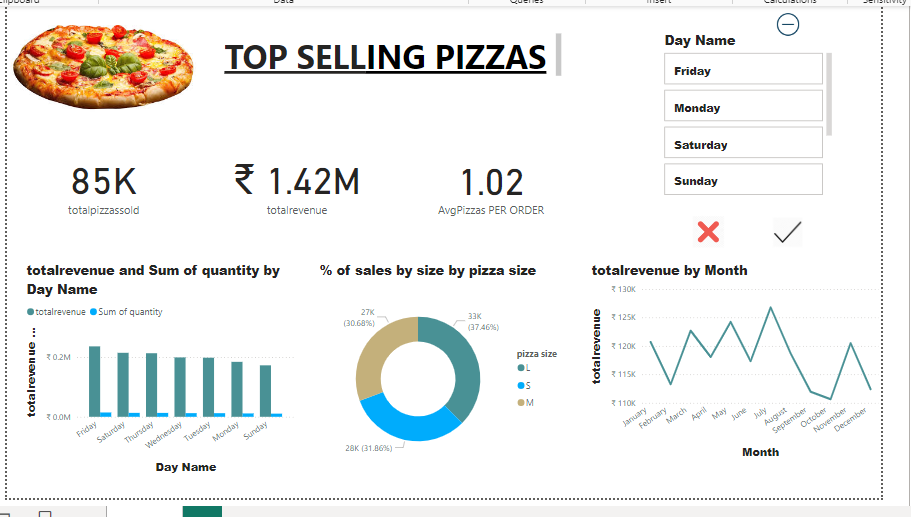

Layout of this report page (visuals, bound fields, positions):
{"tool":"powerbi","page":{"name":"Page 1","canvas":[1280,720],"ordinal":0},"visuals":[{"type":"clusteredColumnChart","fields":{"Category":["orders.Day Name"],"Y":["order_details.totalrevenue","Sum(order_details.quantity)"]},"box":[23.3,373.3,401.7,318.3],"z":0},{"type":"image","box":[1065,26.7,153.3,90],"z":500,"group":"g1"},{"type":"card","fields":{"Values":["order_details.totalpizzassold"]},"box":[30,190,221.7,140],"z":1000},{"type":"card","fields":{"Values":["order_details.totalrevenue"]},"box":[281.7,190,286.7,140],"z":2000},{"type":"donutChart","fields":{"Category":["order_details.pizza size"],"Y":["Sum(order_details.quantity)"]},"box":[451.7,373.3,376.7,318.3],"z":3000},{"type":"textbox","box":[313.2,35.1,503.4,73.2],"z":4000},{"type":"image","box":[0,0,282.4,178.5],"z":5000},{"type":"group","id":"g1","title":"Group 1","box":[1065,26.7,153.3,90],"z":6000},{"type":"card","fields":{"Values":["order_details.AvgPizzas"]},"box":[588.3,178.3,240,140],"z":7500},{"type":"lineChart","fields":{"Y":["order_details.totalrevenue"],"Category":["orders.date.Variation.Date Hierarchy.Month"]},"box":[850,446.7,430,221.7],"z":8000}]}

Visuals, with their boxes on the page's 1280x720 design canvas (x1, y1, x2, y2). These are canvas units, not pixel positions in the 911x517 screenshot, which may show the page scaled, cropped or inside an application window:
clusteredColumnChart - orders.Day Name x order_details.totalrevenue: (23,373,425,692)
image: (1065,27,1218,117)
card - order_details.totalpizzassold: (30,190,252,330)
card - order_details.totalrevenue: (282,190,568,330)
donutChart - order_details.pizza size x Sum(order_details.quantity): (452,373,828,692)
textbox: (313,35,817,108)
image: (0,0,282,178)
"Group 1" group: (1065,27,1218,117)
card - order_details.AvgPizzas: (588,178,828,318)
lineChart - order_details.totalrevenue x orders.date.Variation.Date Hierarchy.Month: (850,447,1280,668)
